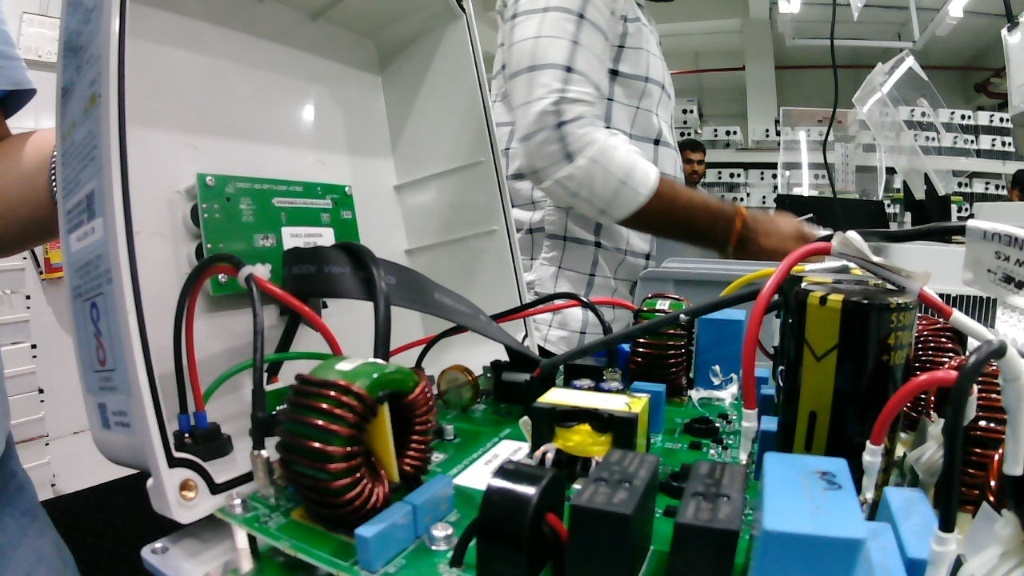wire_red: (151, 350, 237, 466)
